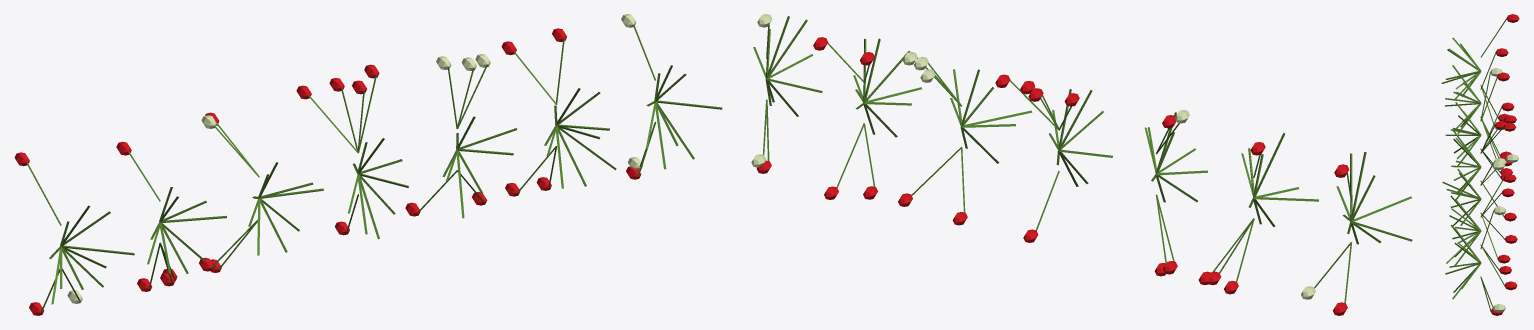
File: r29c5_rest.obj
The picture shows the model from 3 angles, left to right: view 1: azimuth 30°, elevation 25°; view 2: azimuth 150°, elevation 25°; view 3: azimuth 270°, elevation 25°; orthographic projection. The views are drawn at different scales.
Parts seen in each view (by area): view 1: r29c5_rest; view 2: r29c5_rest; view 3: r29c5_rest.
Part boxes in pixels (left/top/right/bottom): r29c5_rest: left=14, top=14, right=722, bottom=315; r29c5_rest: left=751, top=14, right=1412, bottom=315; r29c5_rest: left=1441, top=14, right=1519, bottom=315.
Size of the model in its own units: 1.7 by 0.4017 by 0.2589.
